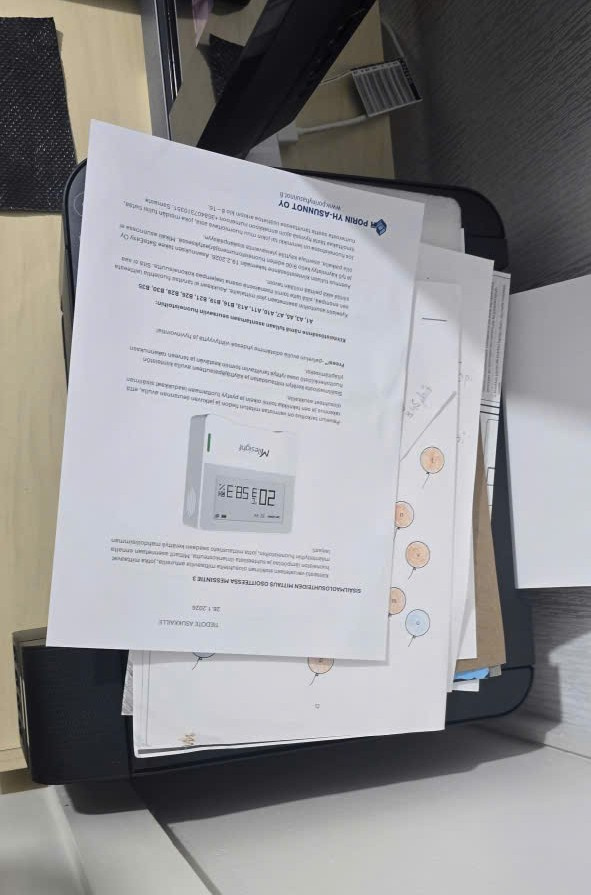paper: (44, 116, 591, 767)
